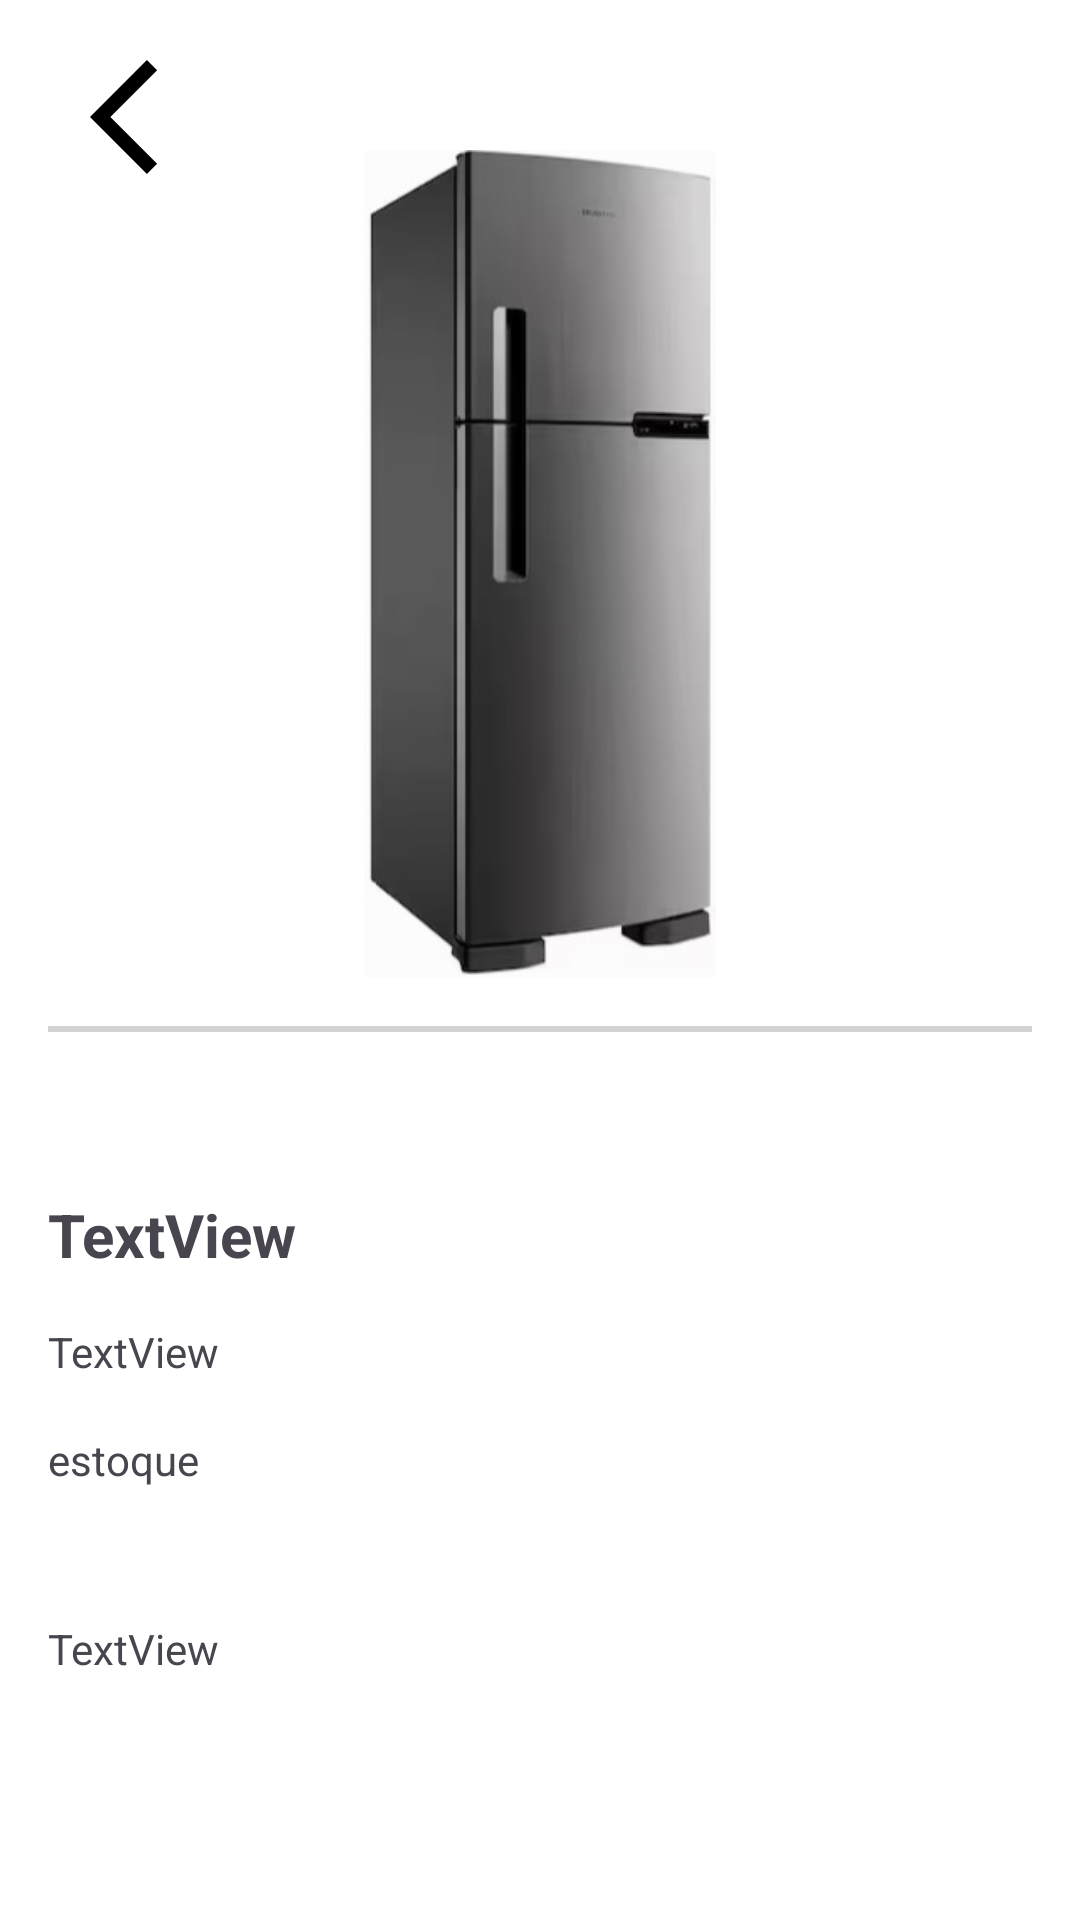

Icon click points for this 1080x1920 phone screenshot, format point (x, y):
left: point (123, 117)
